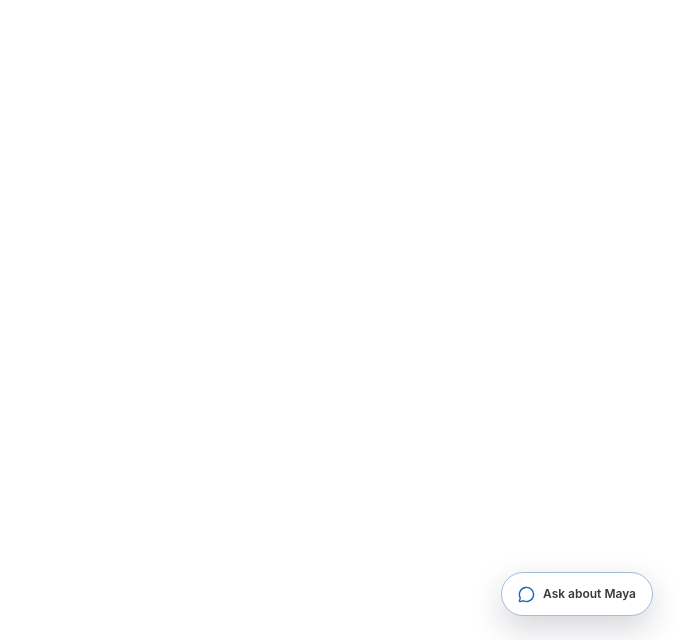
Test case: PersonChatDock › uses a hamburger sidebar menu to show past conversations and a header plus button for new threads
Later steps or results of the test are not shown.
Click the button with aria-label "Ask about Maya". click: click(577, 594)
box: [501, 572, 653, 616]
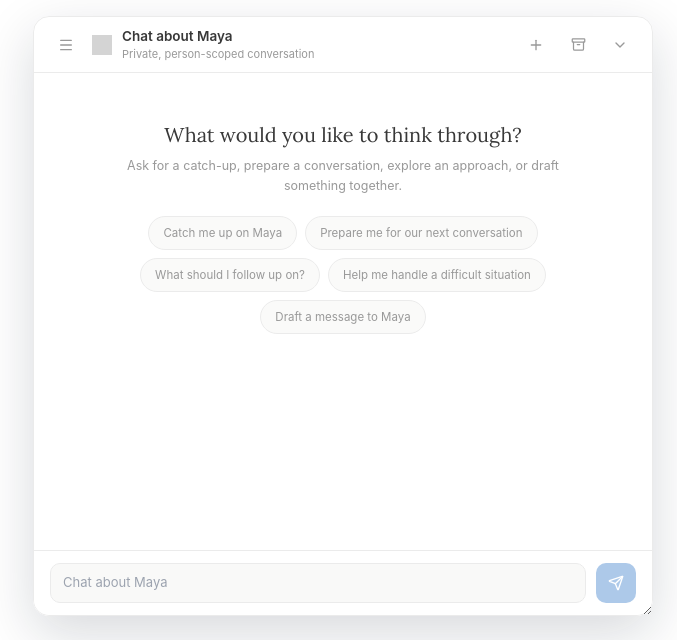
Result: the button named "Past conversations" is shown
Result: the button named "New conversation" is shown at [520, 28, 552, 60]
Result: the button named "Archive chat" is shown at [562, 28, 594, 60]
Note: Click hamburger to toggle sidebar open
Click the button named "Past conversations". click: click(66, 44)
box: [50, 28, 82, 60]
Note: Reopen sidebar and click a past conversation
Click the button named "Past conversations". click: click(66, 44)
box: [50, 28, 82, 60]
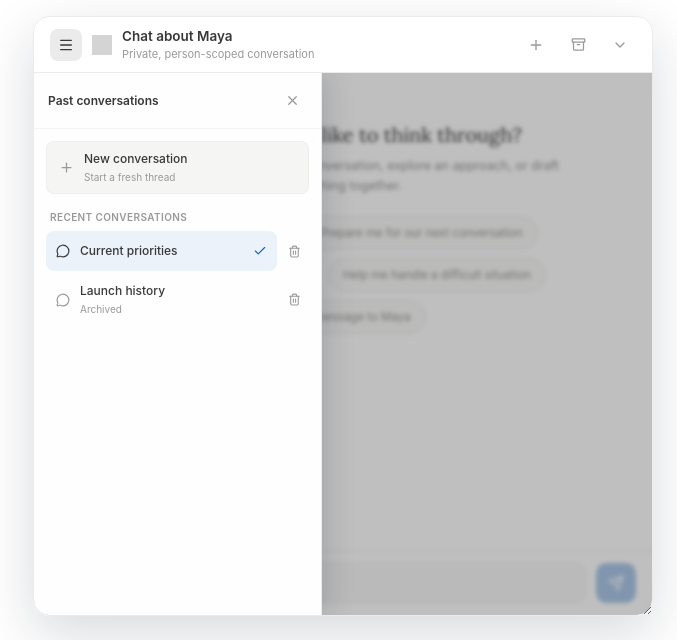
Result: the navigation bar is shown at [34, 73, 322, 615]
Click the button "Launch history Archived". click: click(162, 300)
box: [46, 274, 277, 325]
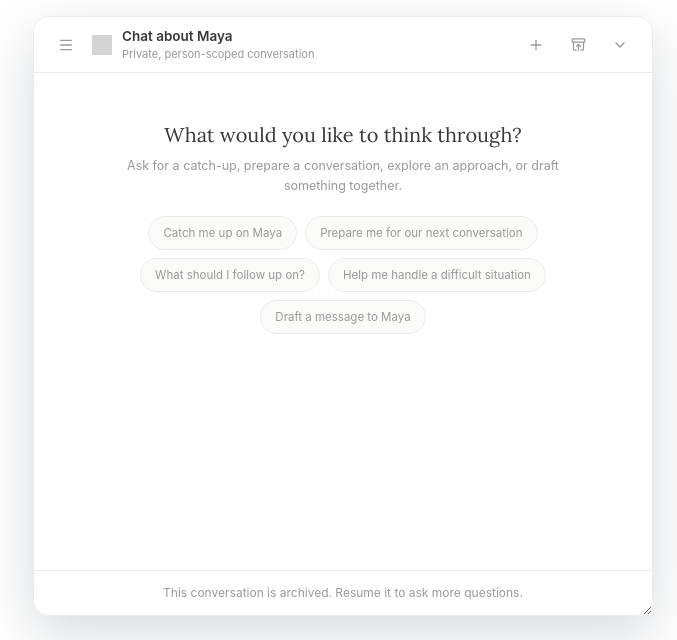
Result: the navigation bar is gone
Result: the text box is gone
Result: the text "This conversation is archived. Resume it to ask more questions." is shown at [34, 570, 652, 615]
